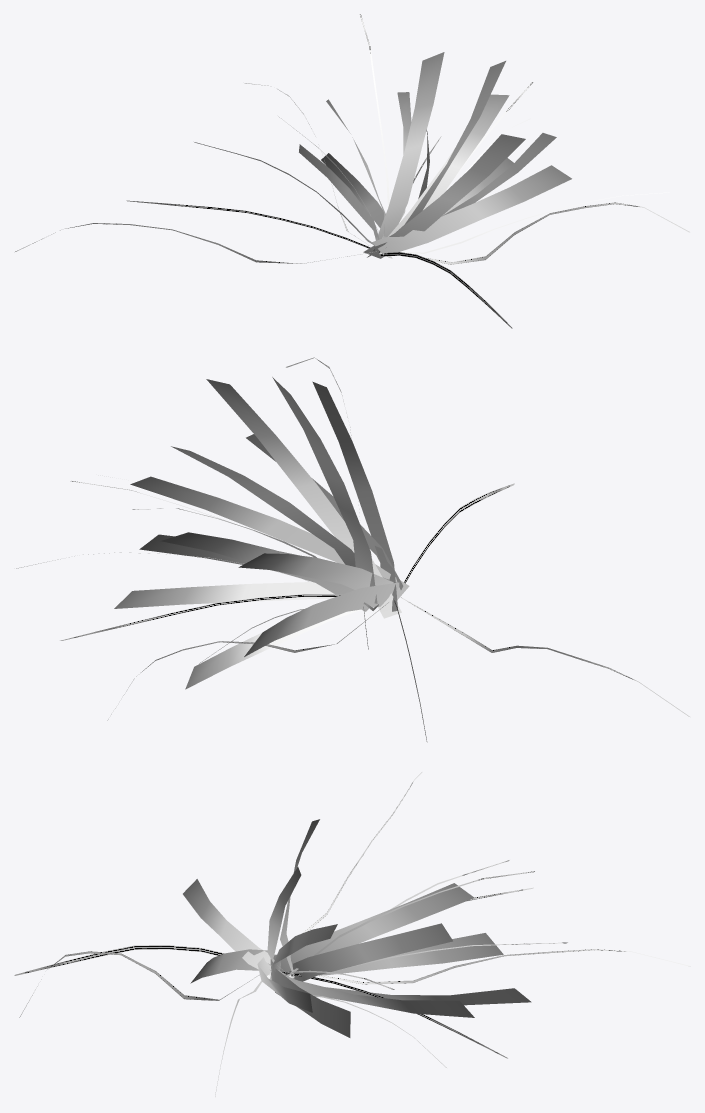
The model's file is WHEEL_FIRE_L.glb.
3 renders of one model, top to bottom at view 1: azimuth 30°, elevation 25°; view 2: azimuth 150°, elevation 25°; view 3: azimuth 270°, elevation 25°, orthographic. The views are drawn at different scales.
Visible parts, largest first — view 1: obj16, obj15; view 2: obj16, obj15; view 3: obj16, obj15.
Boxes of the visible parts, x1,y1,x2,y2 form: obj16: (299, 52, 571, 258); obj15: (15, 14, 689, 328); obj16: (114, 377, 409, 689); obj15: (16, 357, 689, 742); obj16: (183, 819, 531, 1037); obj15: (14, 772, 690, 1096).
Size of the model in its own units: 18.03 by 5.46 by 16.41.
8 materials, 8 textured.
